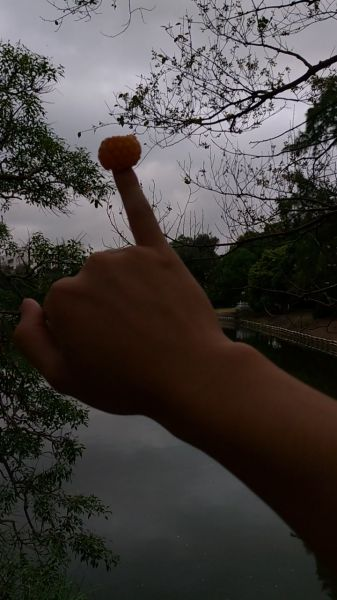eggs: (99, 135, 141, 169)
